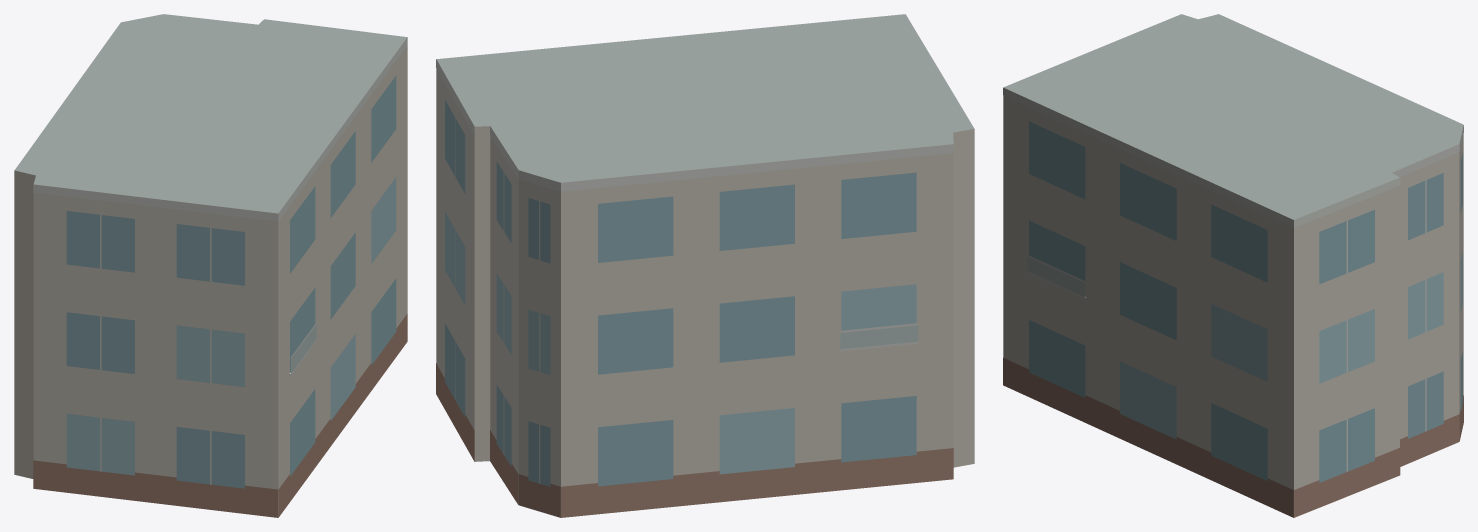
The model's file is survey-upis-32814386.glb.
The picture shows the model from 3 angles, left to right: view 1: azimuth 30°, elevation 25°; view 2: azimuth 150°, elevation 25°; view 3: azimuth 270°, elevation 25°; orthographic projection. The views are drawn at different scales.
Visible parts, largest first — view 1: survey-upis-32814386.tmp; view 2: survey-upis-32814386.tmp; view 3: survey-upis-32814386.tmp.
Boxes of the visible parts, x1,y1,x2,y2 form: survey-upis-32814386.tmp: (14,14,407,517); survey-upis-32814386.tmp: (436,14,974,517); survey-upis-32814386.tmp: (1003,14,1463,517).
Bounding box in the file's own units: 13.58 × 9.15 × 12.83.
